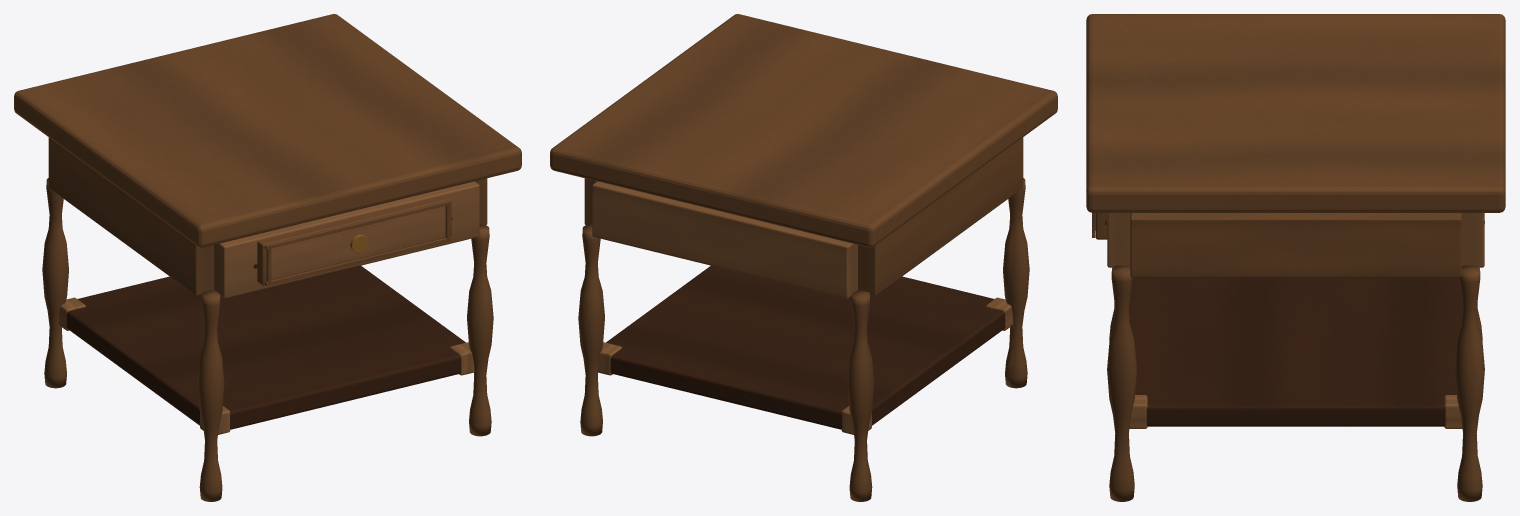
File: asset.glb
3 views of the same model, side by side, from view 1: azimuth 30°, elevation 25°; view 2: azimuth 150°, elevation 25°; view 3: azimuth 270°, elevation 25° (orthographic). The views are drawn at different scales.
Visible parts, largest first — view 1: MaterialBatch_Room_furniture_quarter-sawn_oak, MaterialBatch_Room_furniture_smoked_walnut, MaterialBatch_Room_furniture_light_oak; view 2: MaterialBatch_Room_furniture_quarter-sawn_oak, MaterialBatch_Room_furniture_smoked_walnut, MaterialBatch_Room_furniture_light_oak; view 3: MaterialBatch_Room_furniture_quarter-sawn_oak, MaterialBatch_Room_furniture_smoked_walnut, MaterialBatch_Room_furniture_light_oak.
Part boxes in pixels (x1=…): MaterialBatch_Room_furniture_quarter-sawn_oak: x1=14, y1=14, x2=521, y2=501; MaterialBatch_Room_furniture_smoked_walnut: x1=66, y1=217, x2=465, y2=429; MaterialBatch_Room_furniture_light_oak: x1=58, y1=181, x2=479, y2=434; MaterialBatch_Room_furniture_quarter-sawn_oak: x1=550, y1=14, x2=1057, y2=501; MaterialBatch_Room_furniture_smoked_walnut: x1=606, y1=265, x2=1005, y2=429; MaterialBatch_Room_furniture_light_oak: x1=592, y1=181, x2=1013, y2=434; MaterialBatch_Room_furniture_quarter-sawn_oak: x1=1086, y1=14, x2=1505, y2=501; MaterialBatch_Room_furniture_smoked_walnut: x1=1105, y1=219, x2=1462, y2=426; MaterialBatch_Room_furniture_light_oak: x1=1095, y1=213, x2=1484, y2=428.
Bounding box in the file's own units: 20 × 17 × 20.
Materials: 4 (4 with a texture image).
